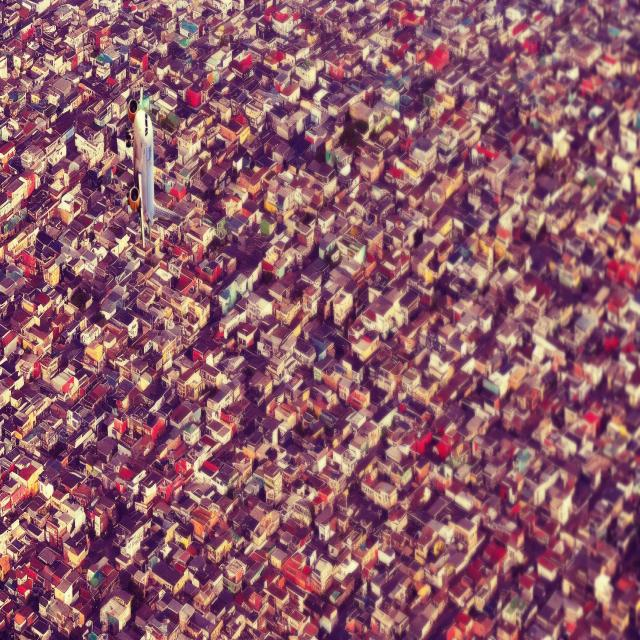airplane: (125, 83, 158, 249)
